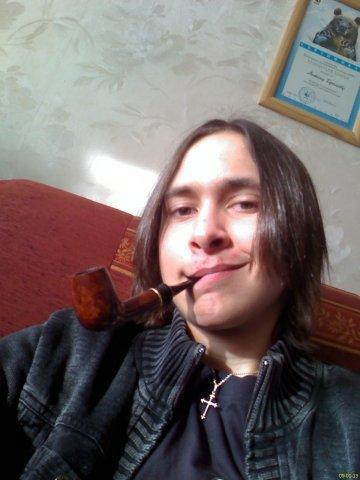trubka: (72, 265, 199, 331)
